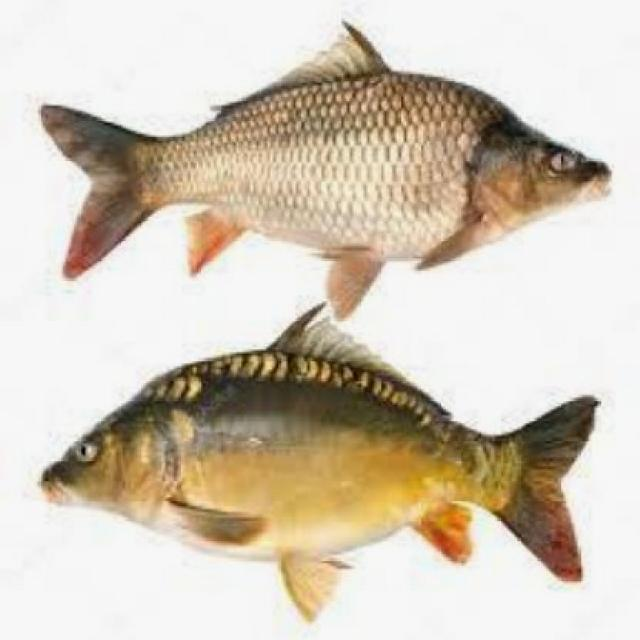ikan-mas: (34, 334, 606, 576), (42, 65, 616, 286)
